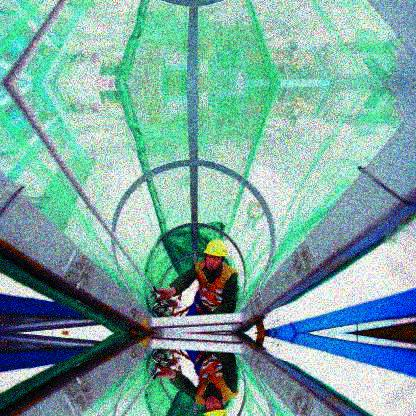helmet: (203, 238, 227, 271), (205, 395, 228, 416)
